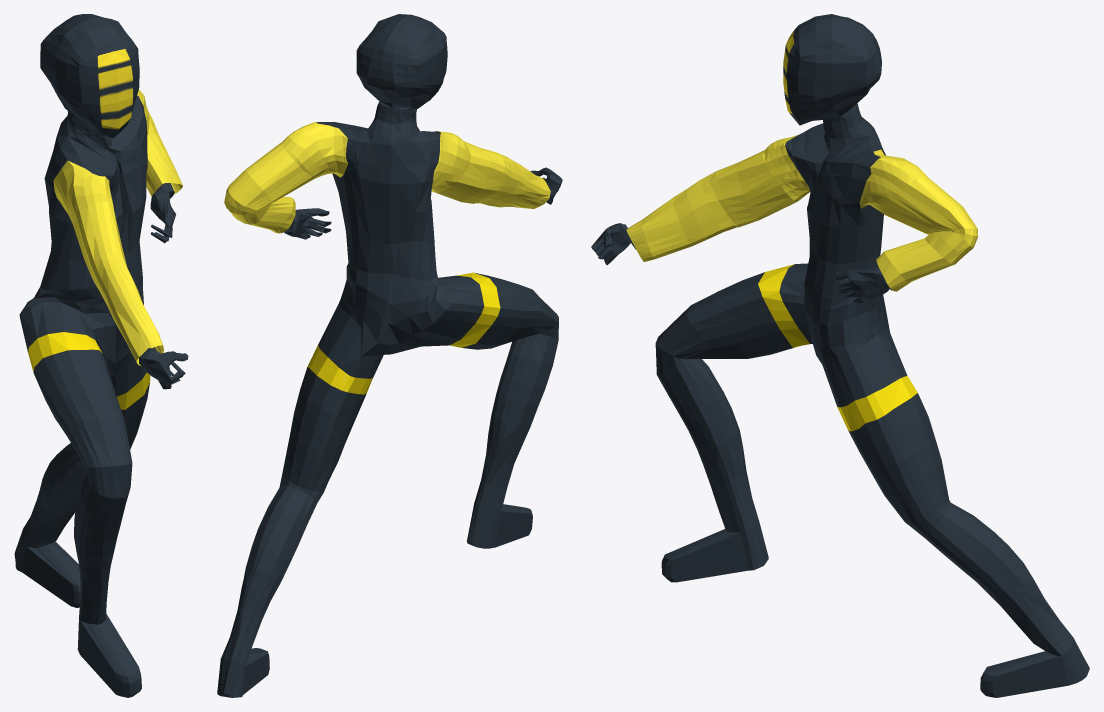
The model's file is Sentry_WR_000007.obj.
3 renders of one model, left to right at view 1: azimuth 30°, elevation 25°; view 2: azimuth 150°, elevation 25°; view 3: azimuth 270°, elevation 25°, orthographic. The views are drawn at different scales.
Parts seen in each view (by area): view 1: Cube; view 2: Cube; view 3: Cube.
Part boxes in pixels (left/top/right/bottom): Cube: left=14, top=14, right=188, bottom=697; Cube: left=217, top=14, right=562, bottom=697; Cube: left=591, top=14, right=1089, bottom=697.
Bounding box in the file's own units: 1.2 × 3.62 × 2.55.
